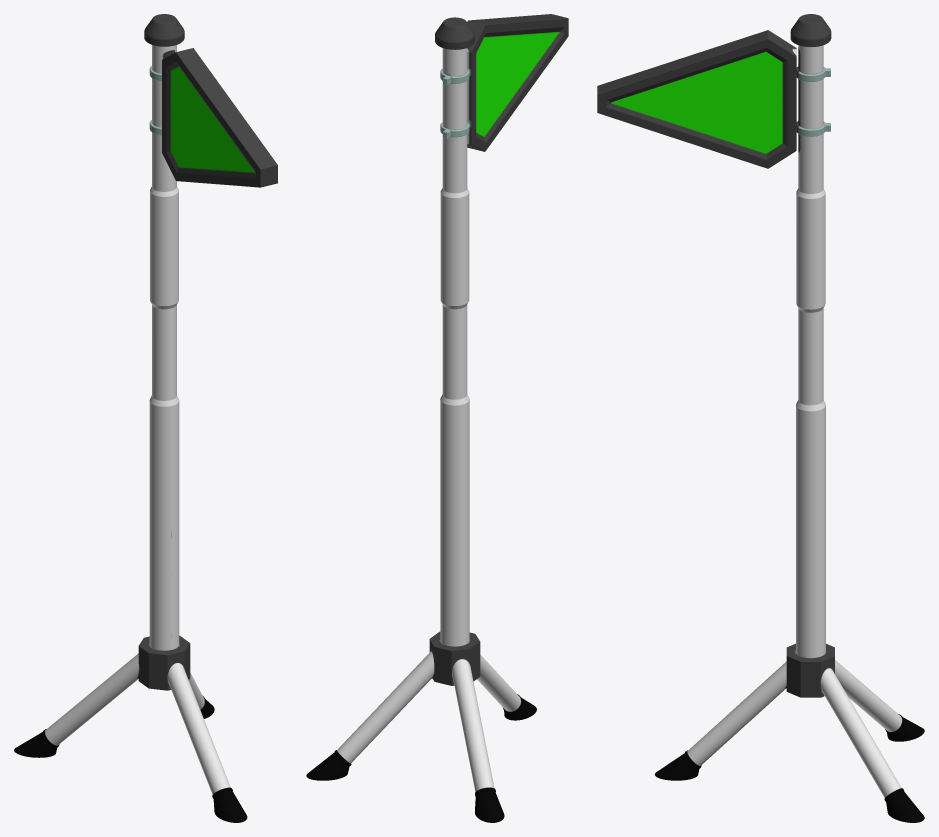
The model's file is GoalFlag.fbx.
3 renders of one model, left to right at view 1: azimuth 30°, elevation 25°; view 2: azimuth 150°, elevation 25°; view 3: azimuth 270°, elevation 25°, orthographic. The views are drawn at different scales.
Parts seen in each view (by area): view 1: GoalFlagShipping; view 2: GoalFlagShipping; view 3: GoalFlagShipping.
Boxes of the visible parts, x1=… form: GoalFlagShipping: x1=14, y1=14, x2=277, y2=822; GoalFlagShipping: x1=306, y1=14, x2=568, y2=822; GoalFlagShipping: x1=597, y1=14, x2=924, y2=822.
Bounding box in the file's own units: 2.84 × 4.06 × 10.34.
